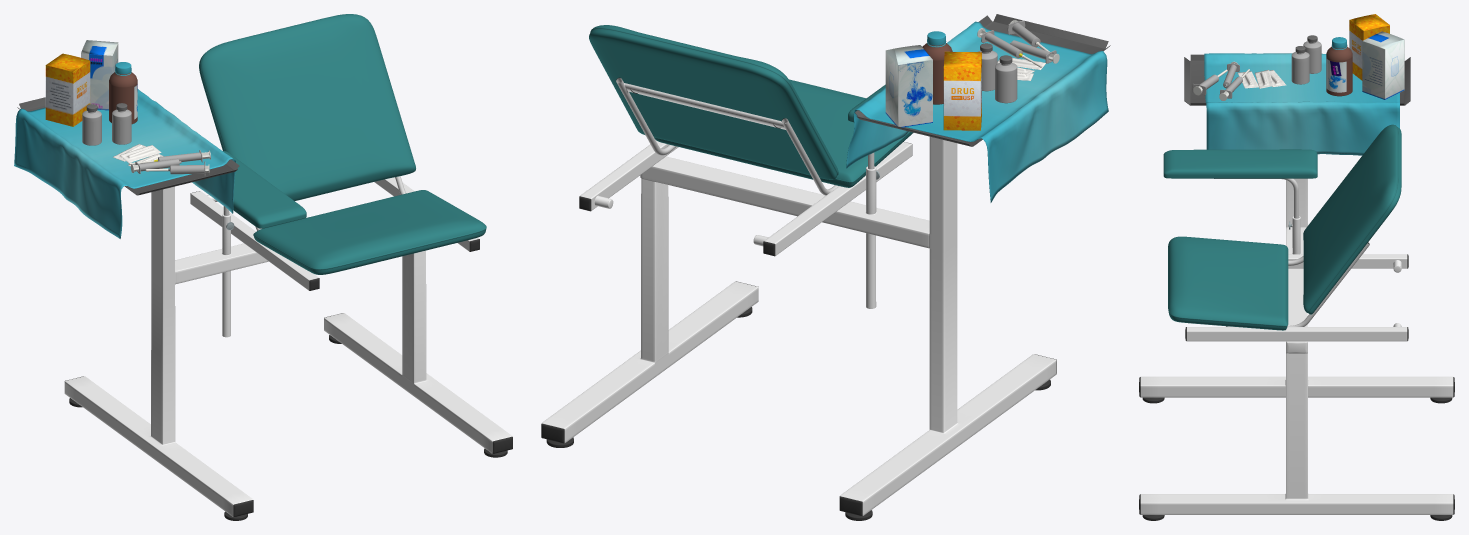
Rendered from hospital_examination_and_treatment_chair.glb.
3 renders of one model, left to right at view 1: azimuth 30°, elevation 25°; view 2: azimuth 150°, elevation 25°; view 3: azimuth 270°, elevation 25°, orthographic. The views are drawn at different scales.
Visible parts, largest first — view 1: Object_11, Object_3, Object_7, Object_22, Object_23, Object_21, Object_9, Object_8, Object_4, Object_16; view 2: Object_3, Object_11, Object_7, Object_21, Object_22, Object_10, Object_8, Object_23, Object_9, Object_4; view 3: Object_11, Object_3, Object_7, Object_21, Object_23, Object_8, Object_22, Object_10, Object_9, Object_4, Object_16, Object_6.
Boxes of the visible parts, bbox=[...] form: Object_11: bbox=[199, 14, 486, 274]; Object_3: bbox=[64, 177, 512, 516]; Object_7: bbox=[14, 89, 236, 238]; Object_22: bbox=[45, 53, 90, 126]; Object_23: bbox=[82, 109, 202, 173]; Object_21: bbox=[81, 40, 118, 110]; Object_9: bbox=[65, 191, 512, 520]; Object_8: bbox=[17, 97, 239, 195]; Object_4: bbox=[109, 72, 137, 124]; Object_16: bbox=[113, 144, 163, 166]; Object_3: bbox=[541, 136, 1056, 515]; Object_11: bbox=[589, 25, 913, 187]; Object_7: bbox=[846, 21, 1108, 202]; Object_21: bbox=[885, 45, 932, 127]; Object_22: bbox=[943, 51, 981, 130]; Object_10: bbox=[616, 78, 874, 195]; Object_8: bbox=[855, 14, 1110, 146]; Object_23: bbox=[978, 30, 1056, 103]; Object_9: bbox=[541, 77, 1056, 520]; Object_4: bbox=[922, 43, 952, 104]; Object_11: bbox=[1163, 124, 1401, 330]; Object_3: bbox=[1140, 178, 1453, 514]; Object_7: bbox=[1204, 53, 1399, 155]; Object_21: bbox=[1362, 31, 1404, 99]; Object_23: bbox=[1219, 41, 1321, 98]; Object_8: bbox=[1184, 54, 1410, 105]; Object_22: bbox=[1349, 14, 1389, 80]; Object_10: bbox=[1191, 178, 1369, 326]; Object_9: bbox=[1139, 178, 1454, 520]; Object_4: bbox=[1326, 46, 1352, 96]; Object_16: bbox=[1237, 69, 1286, 88]; Object_6: bbox=[1326, 59, 1346, 92].
Bounding box in the file's own units: 34.52 × 34.82 × 28.21.
Materials: 22 (8 with a texture image).
